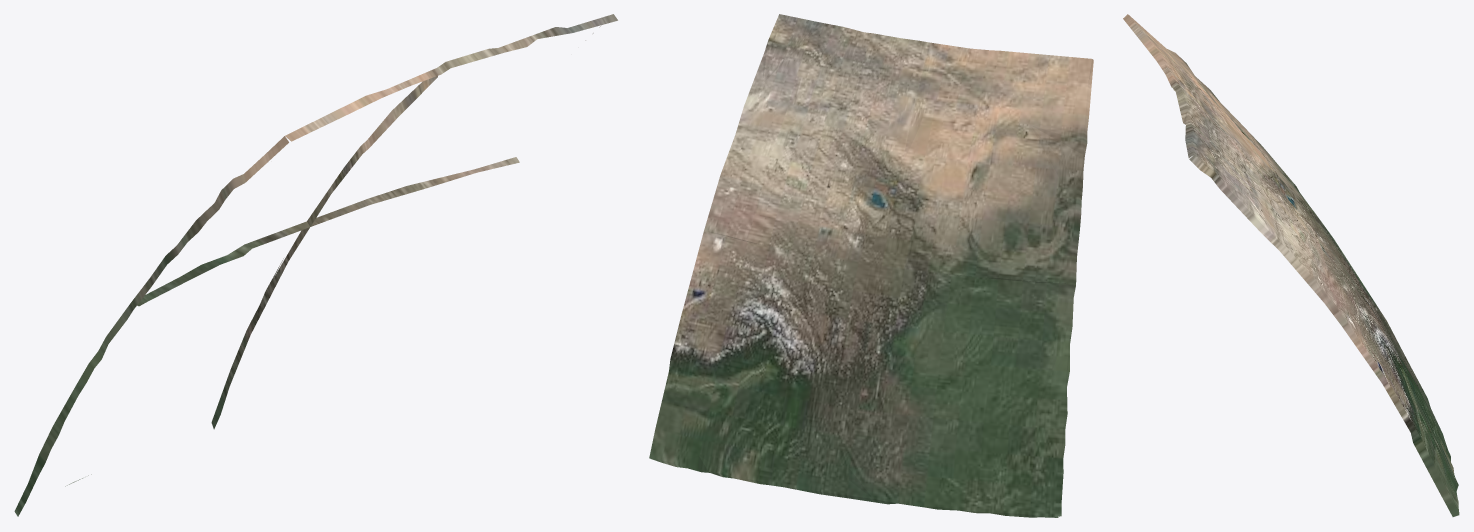
3 views of the same model, side by side, from view 1: azimuth 30°, elevation 25°; view 2: azimuth 150°, elevation 25°; view 3: azimuth 270°, elevation 25° (orthographic). The views are drawn at different scales.
Bounding box in the file's own units: 2287472 × 2109170 × 1757791.
Materials: 1 (1 with a texture image).
